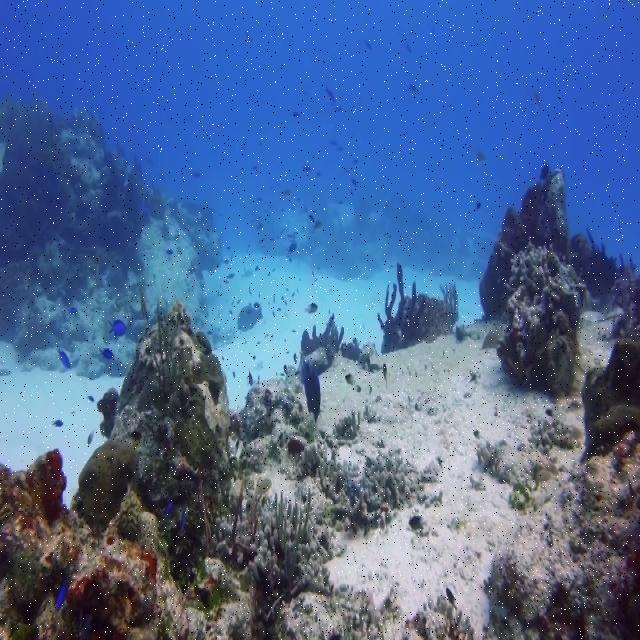aquatic plants: (297, 441, 443, 533), (229, 486, 337, 609)
reefs: (377, 265, 432, 350)
sea-floor: (0, 312, 344, 639), (0, 98, 221, 379), (474, 340, 639, 639), (478, 162, 639, 395)
